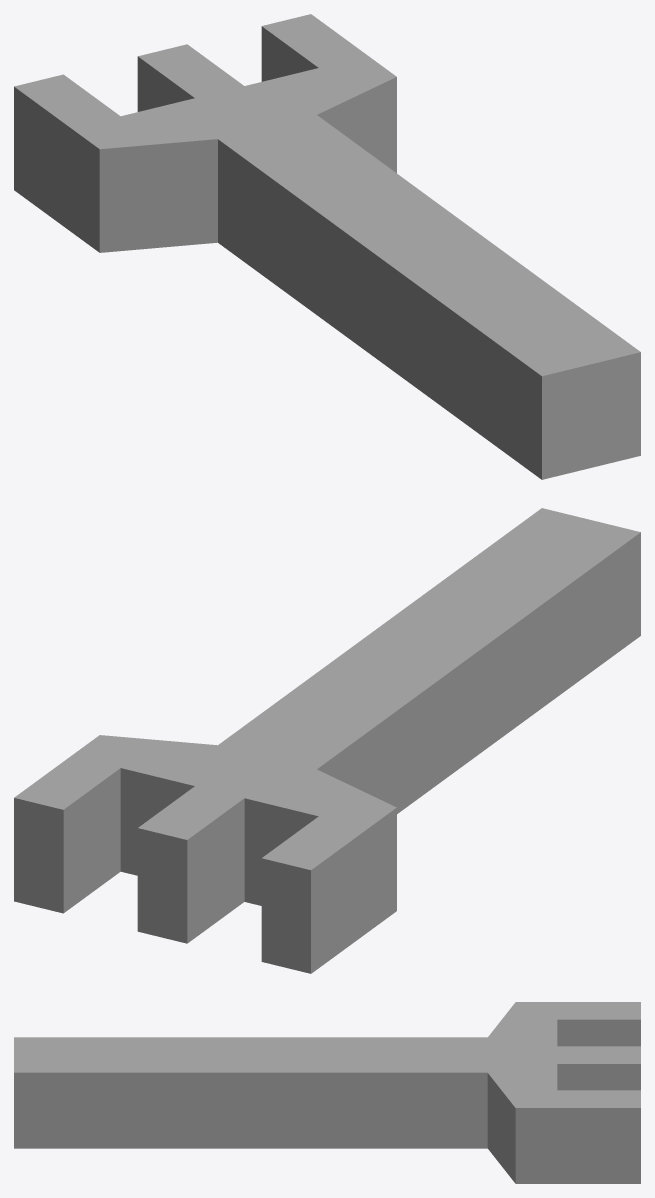
The model's file is fork.fbx.
3 views of the same model, one above another, from view 1: azimuth 30°, elevation 25°; view 2: azimuth 150°, elevation 25°; view 3: azimuth 270°, elevation 25° (orthographic). The views are drawn at different scales.
Visible parts, largest first — view 1: cuboid, cuboid_1, cube, cube_1, cube_2; view 2: cuboid, cuboid_1, cube_1, cube, cube_2; view 3: cuboid, cuboid_1, cube_2, cube, cube_1.
Boxes of the visible parts, bbox=[...] form: cuboid: bbox=[199, 101, 640, 479]; cuboid_1: bbox=[71, 56, 396, 252]; cube: bbox=[14, 74, 120, 231]; cube_1: bbox=[137, 44, 243, 111]; cube_2: bbox=[261, 14, 367, 81]; cuboid: bbox=[199, 508, 640, 813]; cuboid_1: bbox=[71, 735, 396, 931]; cube_1: bbox=[137, 786, 244, 943]; cube: bbox=[261, 816, 368, 973]; cube_2: bbox=[14, 756, 120, 913]; cuboid: bbox=[14, 1037, 515, 1148]; cuboid_1: bbox=[475, 1002, 557, 1183]; cube_2: bbox=[557, 1090, 640, 1183]; cube: bbox=[557, 1002, 640, 1046]; cube_1: bbox=[557, 1046, 640, 1090].
Bounding box in the file's own units: 18.75 × 6.25 × 46.88.
Materials: 1 (1 with a texture image).
